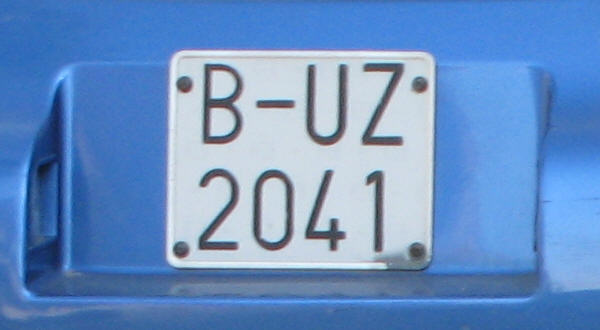license_plate: (166, 49, 435, 269)
